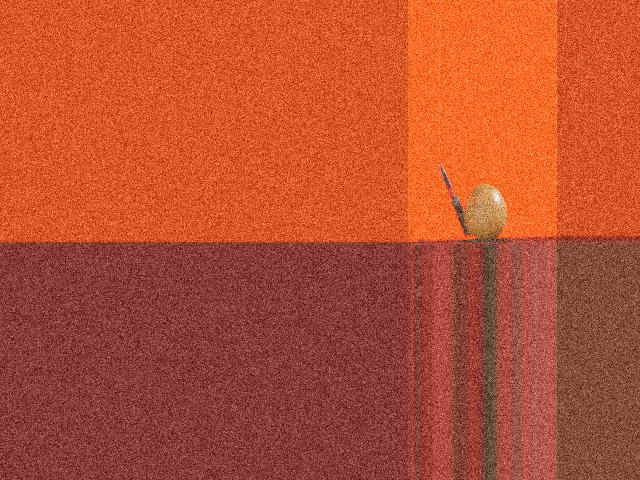egg: (464, 185, 506, 239)
